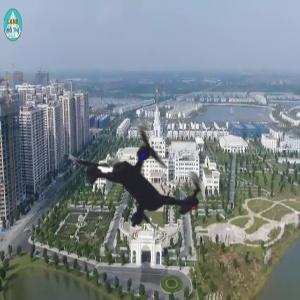drone: (41, 76, 246, 281)
